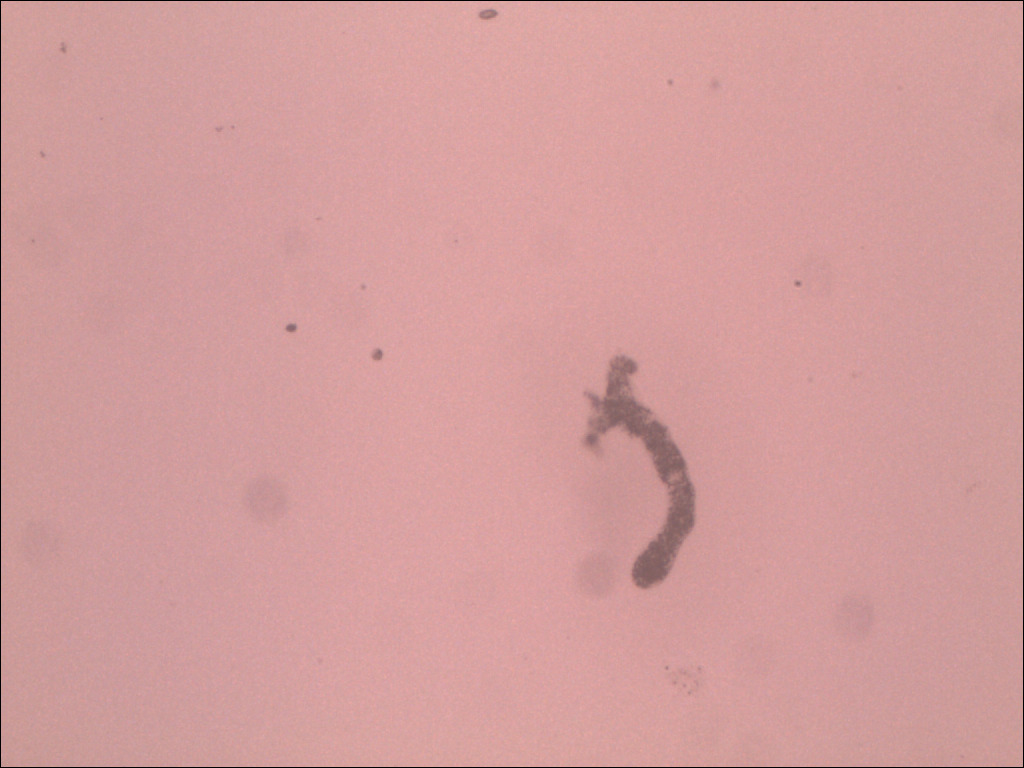amoeba: (573, 345, 710, 603)
